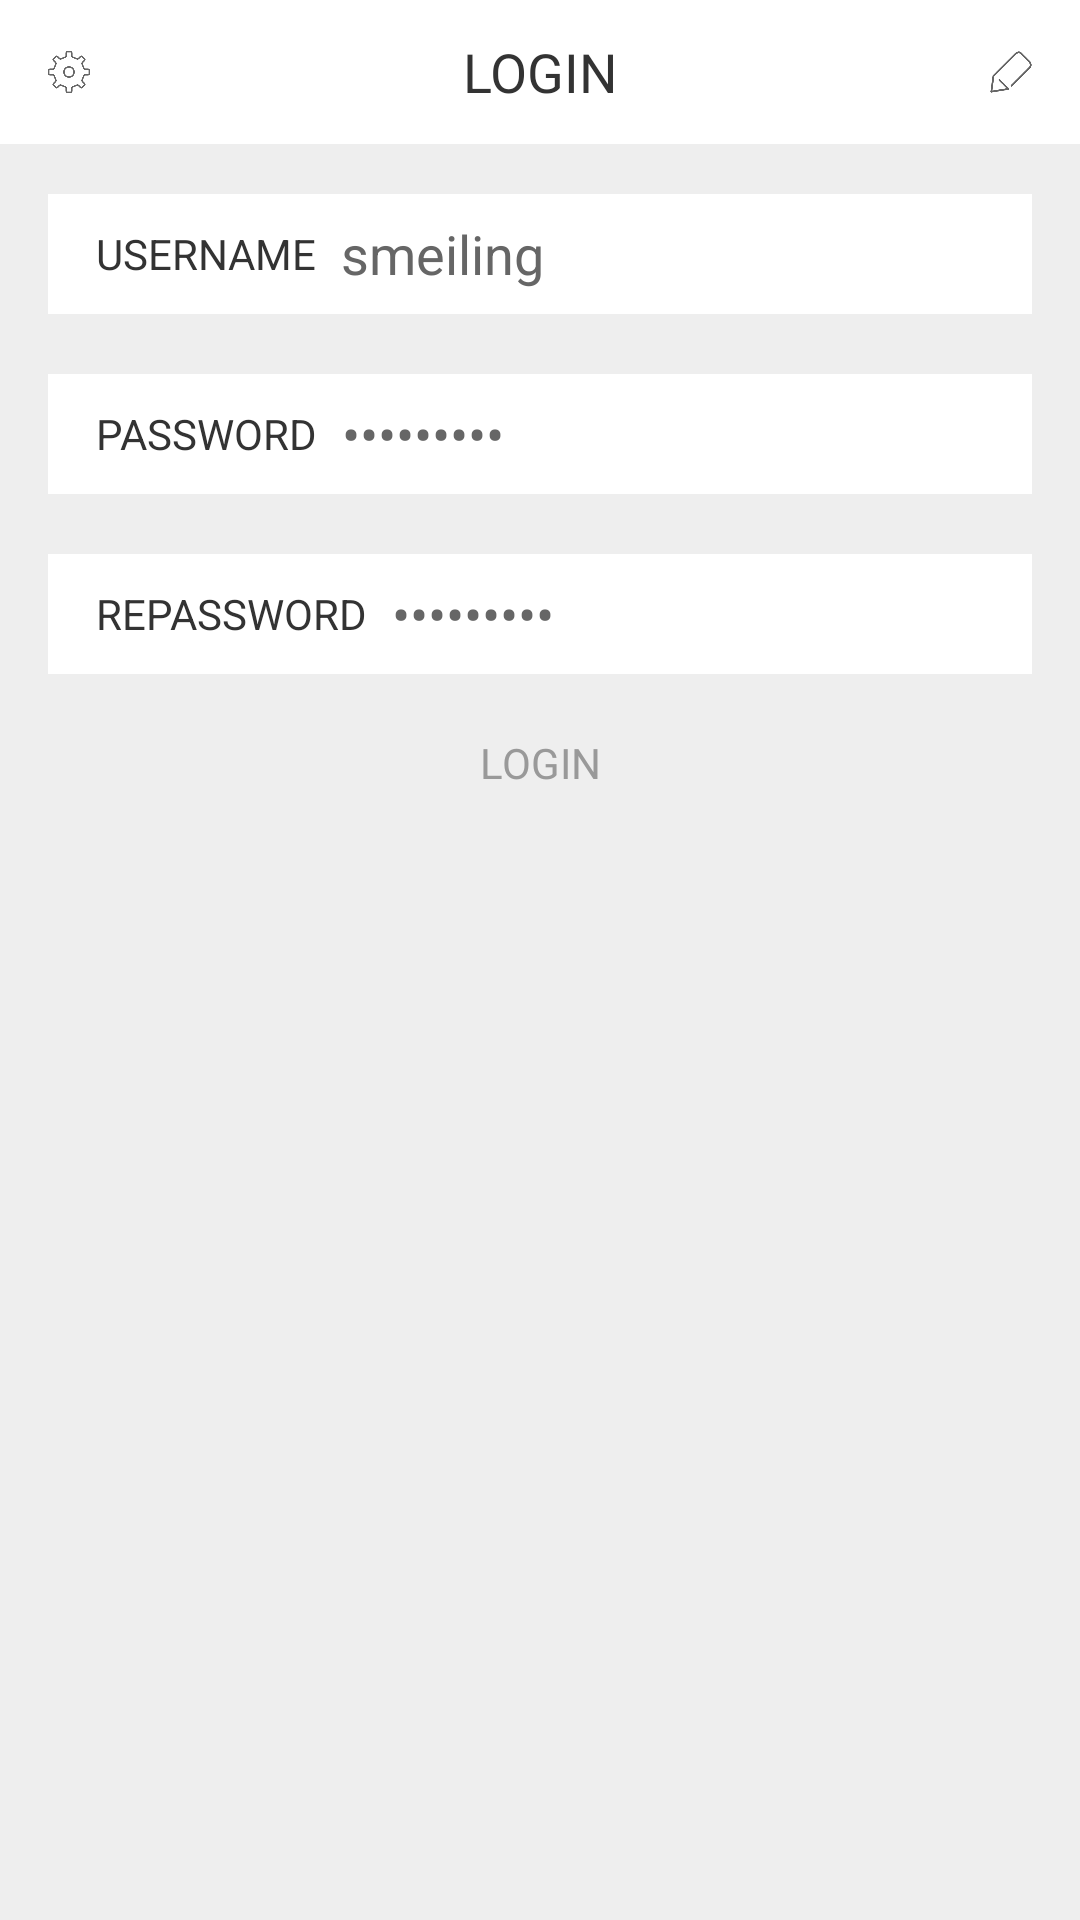

Point at icon controls on the screen. Image size 1080 × 1920, points as point (x, y).
edit: point (1011, 72)
settings: point (69, 72)
